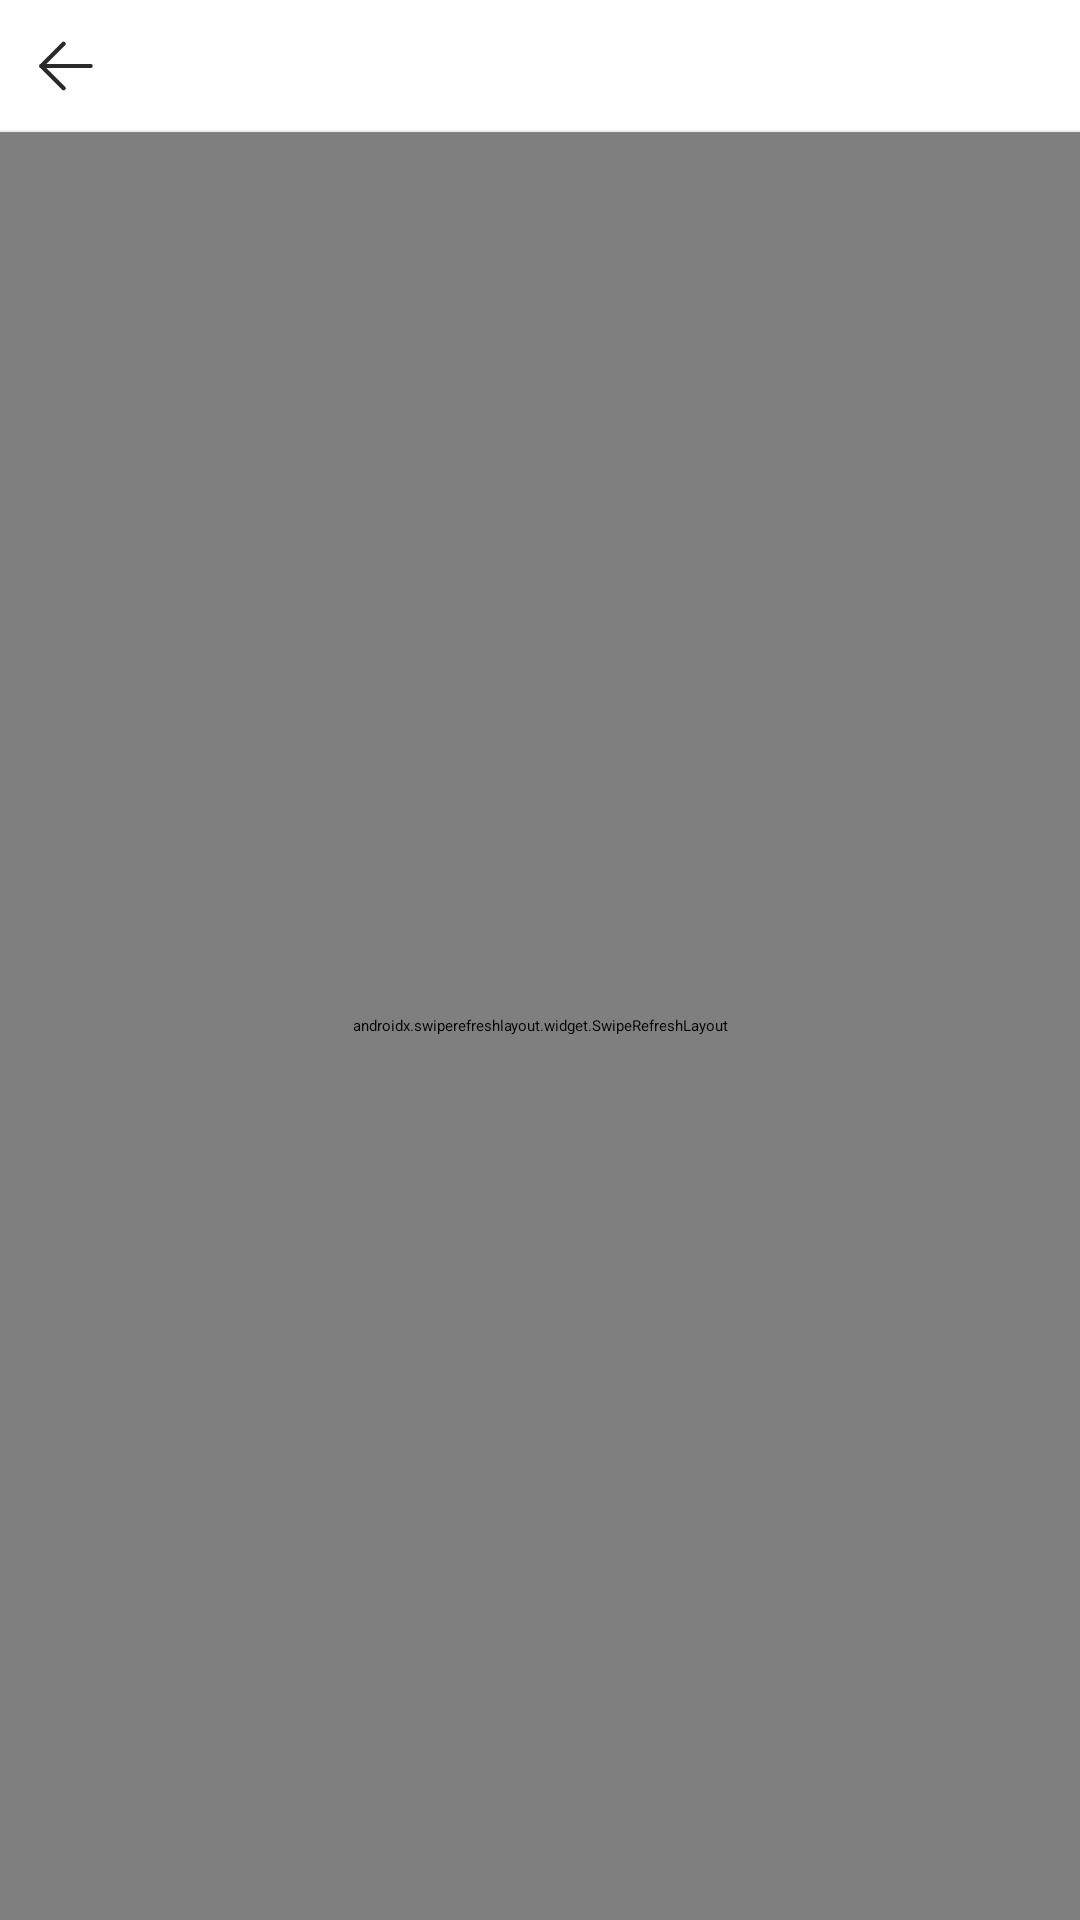

Named icons in this screenshot (1080w x 1920h) and their bounding boxes, box=[x1, y1, x2, y2]:
arrow left: box=[39, 41, 93, 91]
